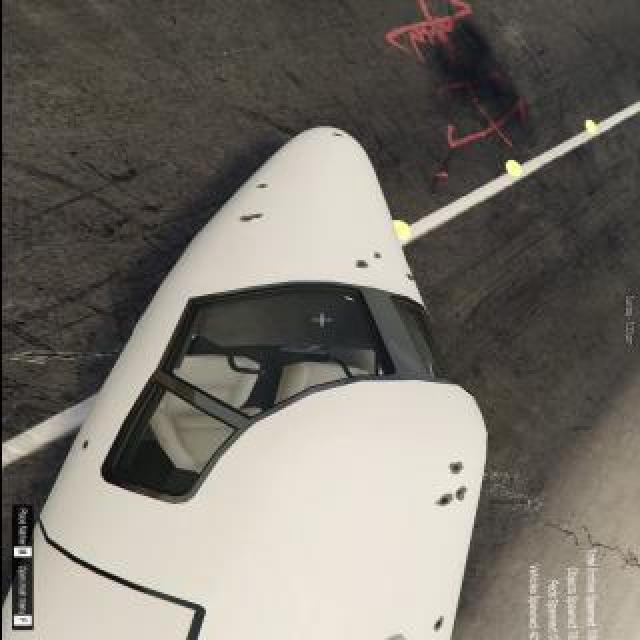crack: (434, 494, 454, 510), (431, 617, 447, 633), (239, 213, 263, 223), (447, 464, 461, 476), (353, 260, 369, 268), (455, 489, 465, 501), (328, 132, 342, 140), (78, 442, 92, 450), (402, 275, 414, 283), (256, 184, 270, 190), (373, 253, 381, 261)
